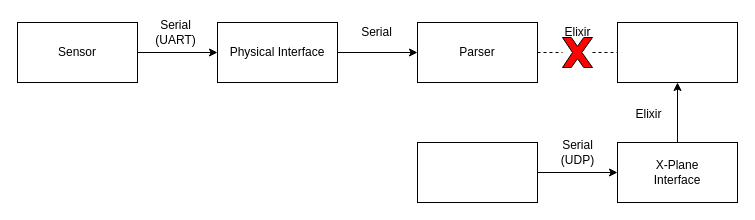
Some shapes in this 755 by 220 pixel diagram are drawn without their labels. The shapes that lost their labels are listed below. From the top down, each one's centre as x and y in pixels, then its label:
At [677,52]: "Estimation Module".
At [477,172]: "X-Plane".
